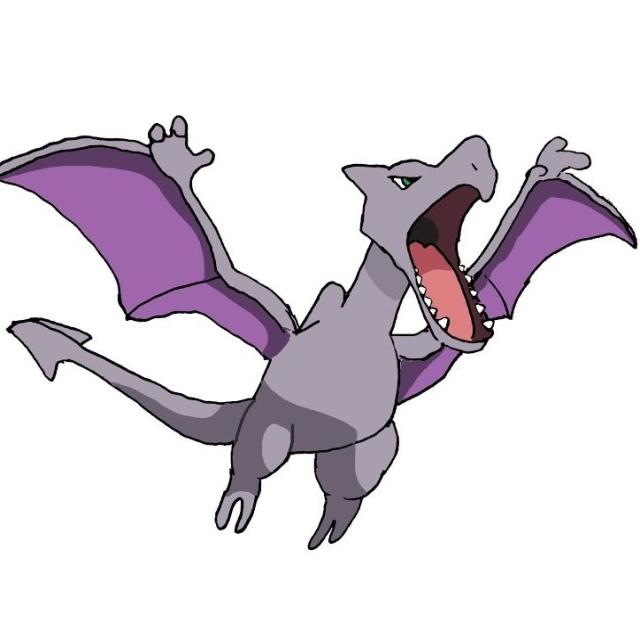Aerodactyl: (55, 120, 609, 536)
